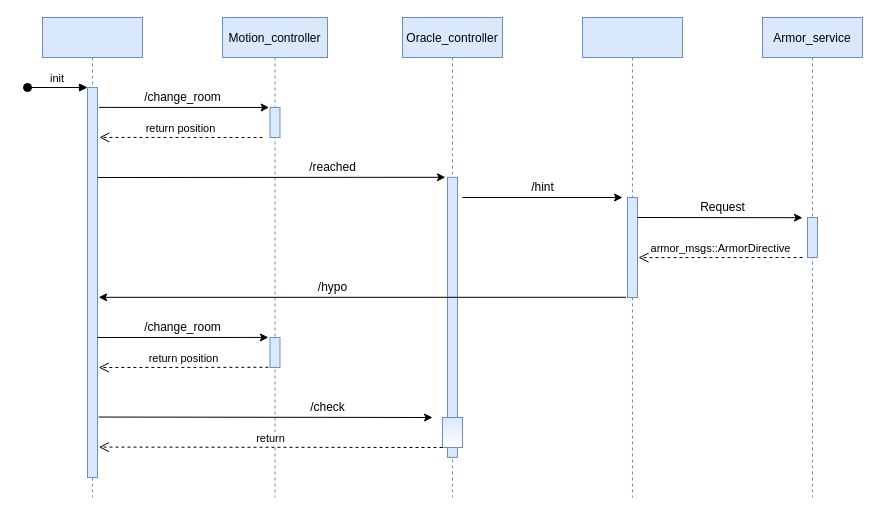
The diagram is 880 pixels wide and 515 high, and some of its shapes have lost their labels. The box of each missing label's shape, as (x1, y1, x2, y2) in pixels:
Hint_controller: (582, 16, 682, 498)
Robot_controller: (42, 16, 142, 498)
